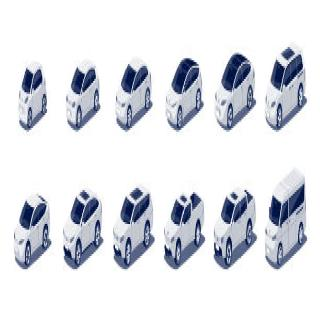Normal_vehicle: (264, 164, 309, 280), (212, 176, 258, 287), (59, 182, 107, 280), (264, 34, 310, 135), (164, 187, 208, 291), (11, 177, 54, 280), (213, 48, 260, 140), (161, 49, 204, 141), (112, 188, 154, 282), (113, 44, 152, 131), (65, 58, 101, 130), (20, 64, 47, 132)
